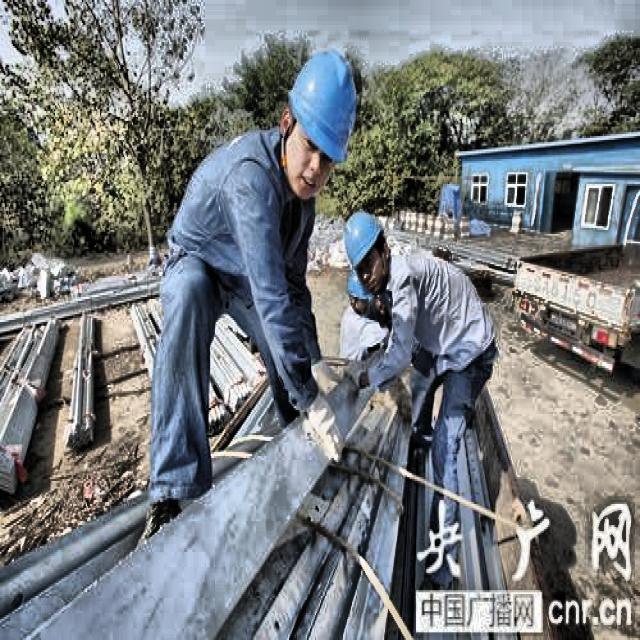helmet: (278, 38, 370, 203), (342, 205, 392, 291), (344, 270, 376, 318)
